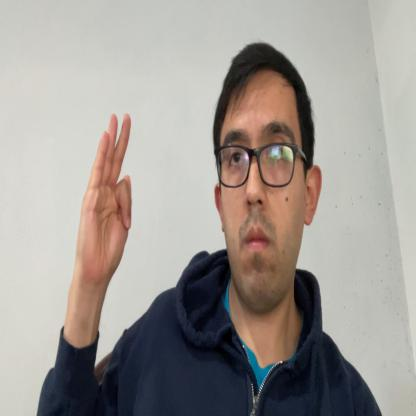F: (77, 115, 132, 282)
